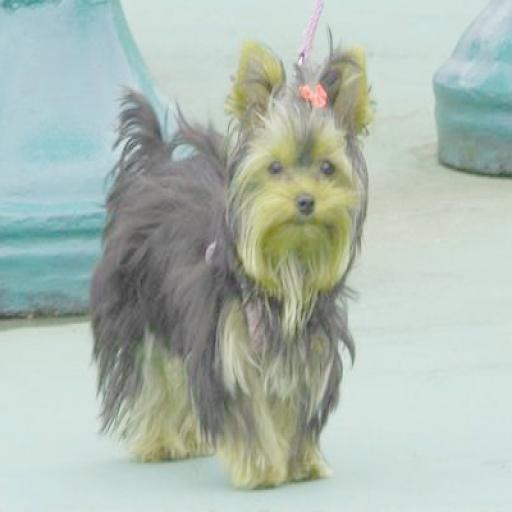dog_face: (226, 40, 373, 290)
